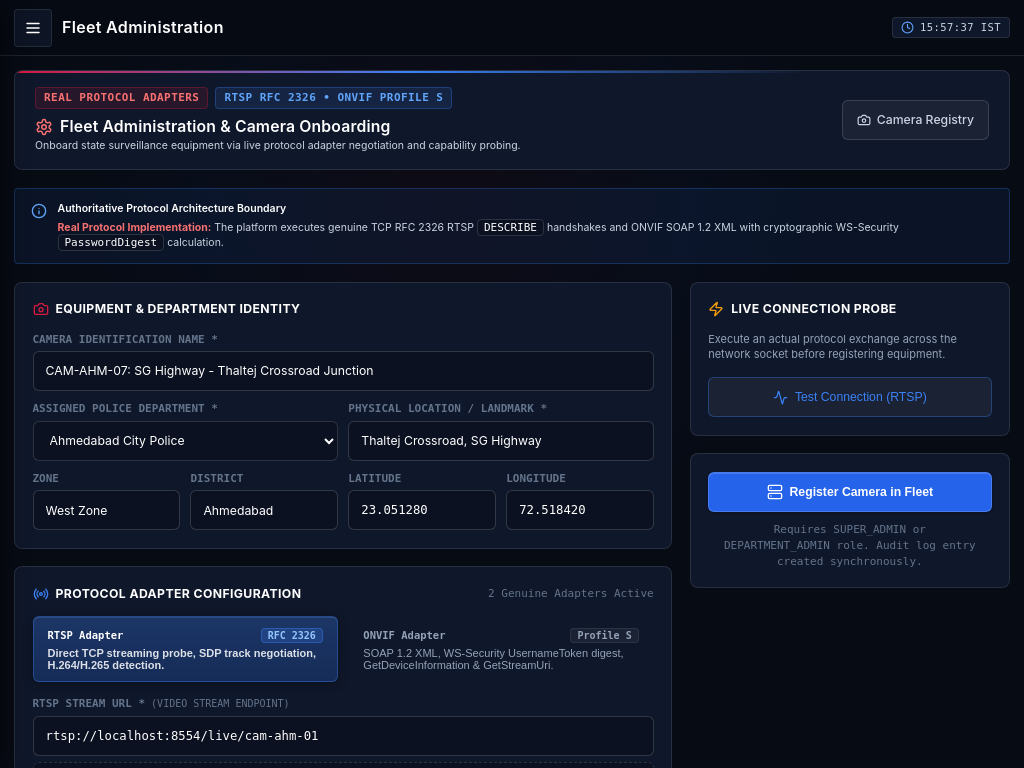
Test: Fleet Administration & Camera Onboarding UI (Phase 4F) › executes protocol adapter connection probe and displays probe results
Click the button "Test Connection (RTSP)": (850, 397) [708,377,992,417]
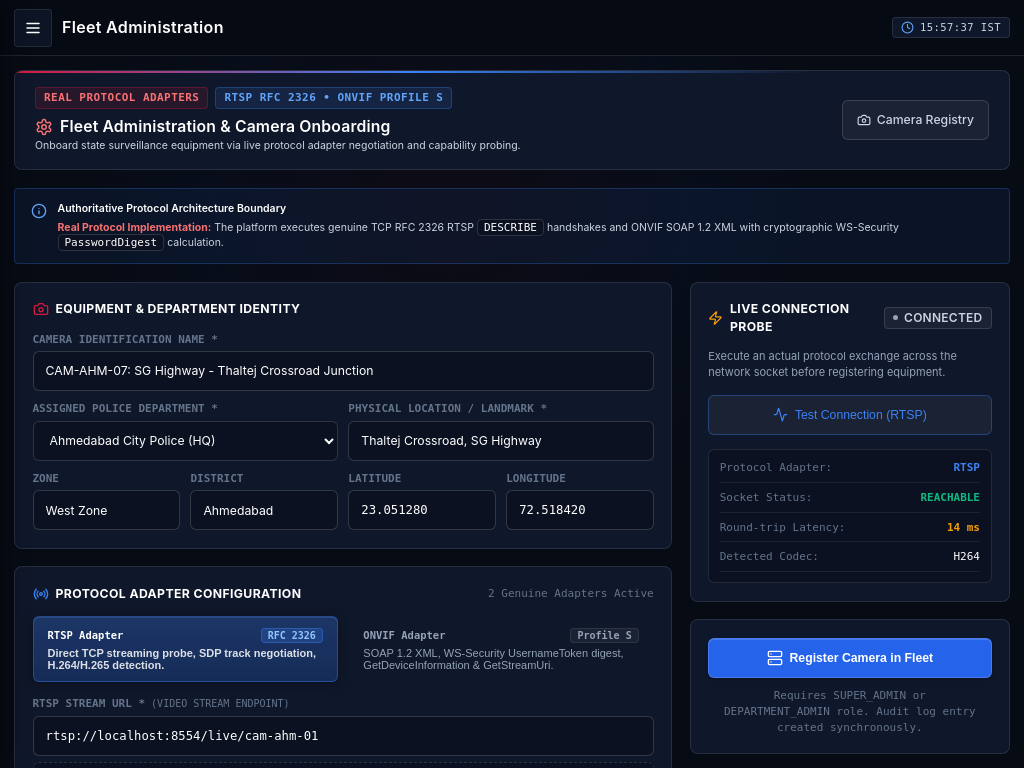
Result: the text "14 ms" is shown at [947,520,980,535]
Result: the text "H264" is shown at [954,549,980,565]
Result: the text "REACHABLE" is shown at [920,490,980,506]
